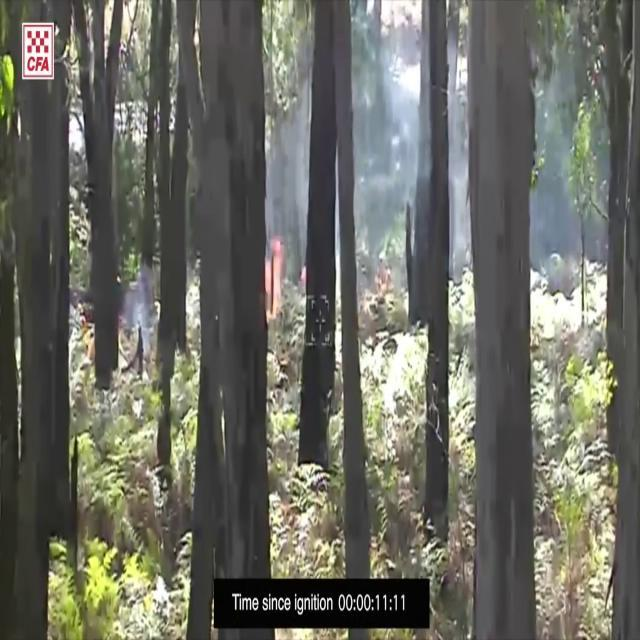Fire: (264, 231, 286, 325)
Smoke: (266, 0, 477, 271)
